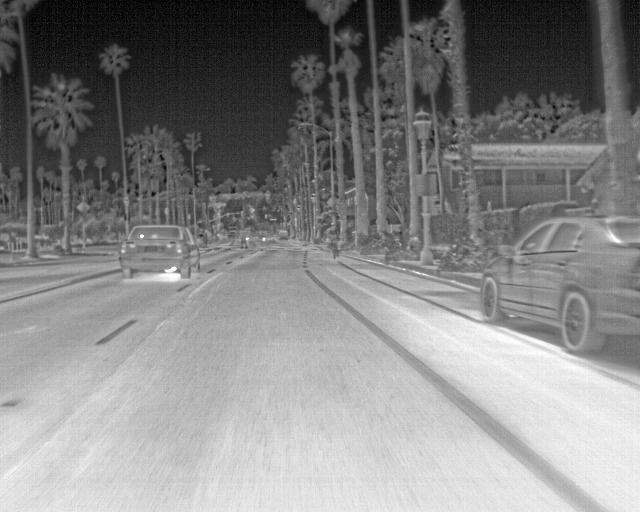bicycle: (475, 212, 639, 353), (120, 223, 199, 279), (274, 228, 290, 243)
